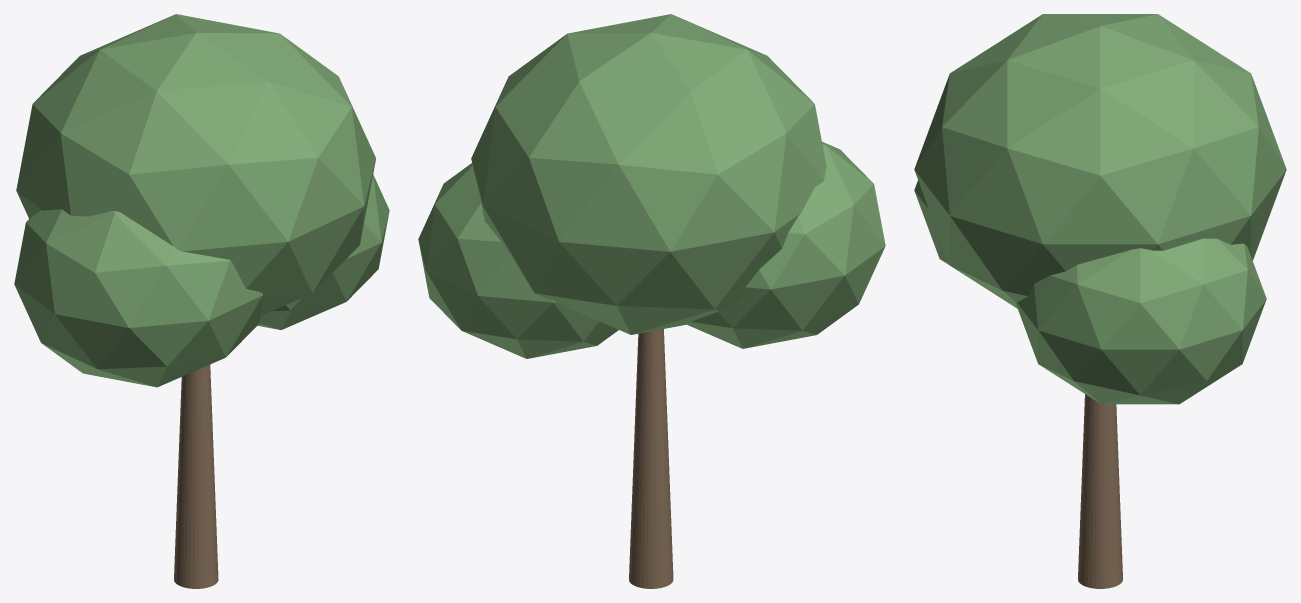
File: tree.glb
3 renders of one model, left to right at view 1: azimuth 30°, elevation 25°; view 2: azimuth 150°, elevation 25°; view 3: azimuth 270°, elevation 25°, orthographic.
Visible parts, largest first — view 1: Tree; view 2: Tree; view 3: Tree.
Boxes of the visible parts, bbox=[...] form: Tree: bbox=[14, 14, 389, 588]; Tree: bbox=[418, 14, 885, 588]; Tree: bbox=[914, 14, 1286, 588].
Bounding box in the file's own units: 3.35 × 4.59 × 2.8.
